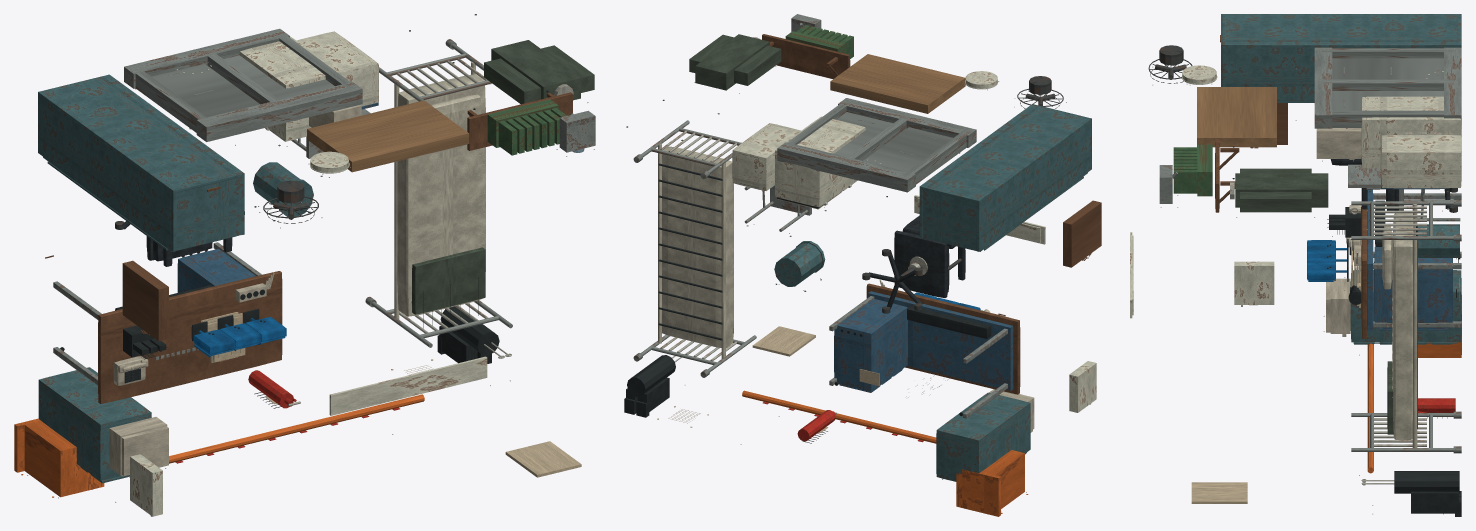
File: guardroom_v6.glb
3 renders of one model, left to right at view 1: azimuth 30°, elevation 25°; view 2: azimuth 150°, elevation 25°; view 3: azimuth 270°, elevation 25°, orthographic. The views are drawn at different scales.
Parts seen in each view (by area): view 1: F05_v3_039_hospital_mattress, F01_v3_000_solid_beveled_birch_worktop, F03_v3_002_cabinet_back, F03_v3_000_cabinet_left_side, F23_001_cork, F07_v3_000_steel_file_cabinet_carcass, F03_v3_004_cabinet_end_panel, F26_001_frame_top, F05_v3_041_folded_olive_blanket, F25_001_lamp_case, F27_001_boom_base, F26_006_pane (+29 smaller); view 2: F05_v3_039_hospital_mattress, F03_v3_002_cabinet_back, F03_v3_000_cabinet_left_side, F01_v3_001_steel_desk_skirt, F07_v3_000_steel_file_cabinet_carcass, F01_v3_006_right_drawer_cabinet, F23_001_cork, F08_v3_000_small_fridge_rounded_shell, F03_v3_003_cabinet_end_panel, F26_002_frame_bot, F06_v3_001_enamel_heater_chassis, F02_v3_000_contoured_seat_shell (+25 smaller); view 3: F03_v3_002_cabinet_back, F03_v3_001_cabinet_right_side, F23_001_cork, F05_v3_039_hospital_mattress, F06_v3_001_enamel_heater_chassis, F08_v3_000_small_fridge_rounded_shell, F01_v3_006_right_drawer_cabinet, F26_006_pane, F34_001_jacket_body, F07_v3_000_steel_file_cabinet_carcass, F15_001_firstaid_case, F26_001_frame_top (+35 smaller).
Boxes of the visible parts, <box> form: F05_v3_039_hospital_mattress: <box>397,74,485,316</box>; F01_v3_000_solid_beveled_birch_worktop: <box>98,271,282,403</box>; F03_v3_002_cabinet_back: <box>40,75,241,192</box>; F03_v3_000_cabinet_left_side: <box>38,91,176,251</box>; F23_001_cork: <box>307,100,469,172</box>; F07_v3_000_steel_file_cabinet_carcass: <box>38,367,151,480</box>; F03_v3_004_cabinet_end_panel: <box>170,172,241,250</box>; F26_001_frame_top: <box>196,82,362,141</box>; F05_v3_041_folded_olive_blanket: <box>411,247,485,314</box>; F25_001_lamp_case: <box>329,356,487,415</box>; F27_001_boom_base: <box>24,418,104,497</box>; F26_006_pane: <box>152,63,259,117</box>; F05_v3_039_hospital_mattress: <box>662,146,733,347</box>; F03_v3_002_cabinet_back: <box>922,104,1090,202</box>; F03_v3_000_cabinet_left_side: <box>976,118,1091,251</box>; F01_v3_001_steel_desk_skirt: <box>868,291,1013,390</box>; F07_v3_000_steel_file_cabinet_carcass: <box>936,392,1030,481</box>; F01_v3_006_right_drawer_cabinet: <box>834,299,907,391</box>; F23_001_cork: <box>830,54,965,113</box>; F08_v3_000_small_fridge_rounded_shell: <box>775,116,865,207</box>; F03_v3_003_cabinet_end_panel: <box>922,186,981,250</box>; F26_002_frame_bot: <box>777,142,915,192</box>; F06_v3_001_enamel_heater_chassis: <box>732,123,800,190</box>; F02_v3_000_contoured_seat_shell: <box>894,230,947,297</box>; F03_v3_002_cabinet_back: <box>1221,15,1461,47</box>; F03_v3_001_cabinet_right_side: <box>1221,43,1461,99</box>; F23_001_cork: <box>1197,87,1276,147</box>; F05_v3_039_hospital_mattress: <box>1392,213,1414,439</box>; F06_v3_001_enamel_heater_chassis: <box>1381,135,1461,188</box>; F08_v3_000_small_fridge_rounded_shell: <box>1361,96,1461,168</box>; F01_v3_006_right_drawer_cabinet: <box>1374,247,1452,328</box>; F26_006_pane: <box>1332,58,1443,79</box>; F34_001_jacket_body: <box>1235,173,1328,207</box>; F07_v3_000_steel_file_cabinet_carcass: <box>1350,270,1461,342</box>; F15_001_firstaid_case: <box>1234,261,1274,304</box>; F26_001_frame_top: <box>1314,47,1332,128</box>.
Bounding box in the file's own units: 3.5 × 2.78 × 2.48.
60 materials, 60 textured.
